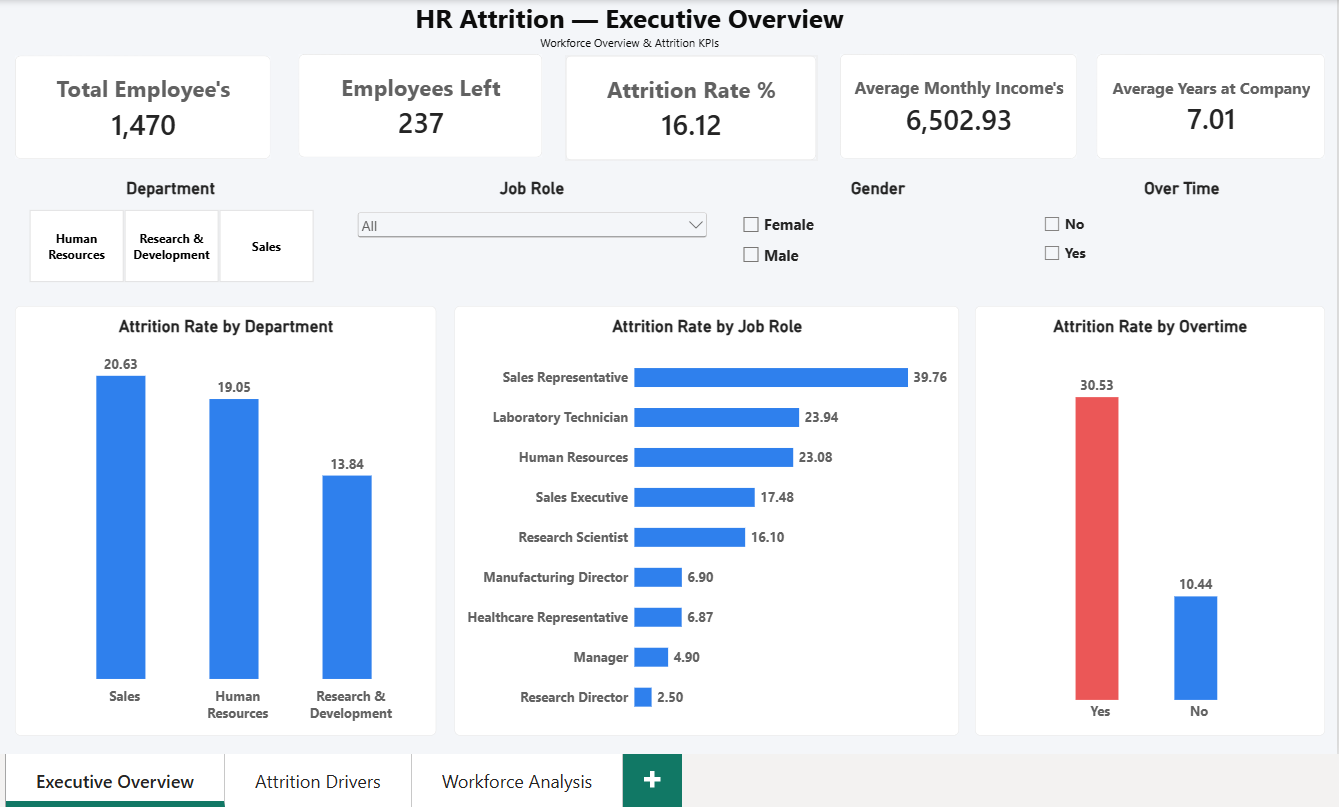

This screenshot's page, from the dashboard's own definition file:
{"tool":"powerbi","page":{"name":"Executive Overview","canvas":[1920,1080],"ordinal":0},"visuals":[{"type":"cardVisual","fields":{"Data":["Measures Table.Total Employees Display"]},"box":[26.7,80.1,366.4,148],"z":0},{"type":"cardVisual","fields":{"Data":["Measures Table.Employees Left"]},"box":[431.9,77.6,349.4,148],"z":1000},{"type":"cardVisual","fields":{"Data":["Measures Table.Attrition Rate %"]},"box":[815.2,80.1,359.1,150.4],"z":2000},{"type":"cardVisual","fields":{"Data":["Measures Table.Average Monthly Income's"]},"box":[1208.3,77.6,339.7,150.4],"z":3000},{"type":"cardVisual","fields":{"Data":["Measures Table.Average Years at Company"]},"box":[1574.7,77.6,327.6,150.4],"z":4000},{"type":"clusteredColumnChart","title":"Attrition Rate by Department","fields":{"Category":["HR-Employee-Attrition.Department"],"Y":["Measures Table.Attrition Rate"]},"box":[26.2,439,603.6,615.6],"z":5000},{"type":"clusteredBarChart","title":"Attrition Rate by Job Role","fields":{"Category":["HR-Employee-Attrition.JobRole"],"Y":["Measures Table.Attrition Rate"]},"box":[656.1,439,722.9,615.6],"z":6000},{"type":"clusteredColumnChart","title":"Attrition Rate by Overtime","fields":{"Category":["HR-Employee-Attrition.OverTime"],"Y":["Measures Table.Attrition Rate"]},"box":[1400.5,439,501,615.6],"z":7000},{"type":"textbox","box":[235.4,0,1339.3,80.1],"z":8000},{"type":"slicer","title":"Department","fields":{"Values":["HR-Employee-Attrition.Department"]},"box":[26.2,255.3,446.2,150.3],"z":8001},{"type":"slicer","title":"Job Role","fields":{"Values":["HR-Employee-Attrition.JobRole"]},"box":[510.6,255.3,510.6,150.3],"z":8002},{"type":"slicer","title":"Gender","fields":{"Values":["HR-Employee-Attrition.Gender"]},"box":[1061.7,255.3,400.8,150.3],"z":8003},{"type":"slicer","title":"Over Time","fields":{"Values":["HR-Employee-Attrition.OverTime"]},"box":[1493.6,255.3,408,150.3],"z":8004}]}

Visuals, with their boxes on the page's 1920x1080 design canvas (x1, y1, x2, y2). These are canvas units, not pixel positions in the 1339x807 screenshot, which may show the page scaled, cropped or inside an application window:
cardVisual - Measures Table.Total Employees Display: l=27, t=80, r=393, b=228
cardVisual - Measures Table.Employees Left: l=432, t=78, r=781, b=226
cardVisual - Measures Table.Attrition Rate %: l=815, t=80, r=1174, b=230
cardVisual - Measures Table.Average Monthly Income's: l=1208, t=78, r=1548, b=228
cardVisual - Measures Table.Average Years at Company: l=1575, t=78, r=1902, b=228
"Attrition Rate by Department" clusteredColumnChart: l=26, t=439, r=630, b=1055
"Attrition Rate by Job Role" clusteredBarChart: l=656, t=439, r=1379, b=1055
"Attrition Rate by Overtime" clusteredColumnChart: l=1400, t=439, r=1902, b=1055
textbox: l=235, t=0, r=1575, b=80
"Department" slicer: l=26, t=255, r=472, b=406
"Job Role" slicer: l=511, t=255, r=1021, b=406
"Gender" slicer: l=1062, t=255, r=1462, b=406
"Over Time" slicer: l=1494, t=255, r=1902, b=406
